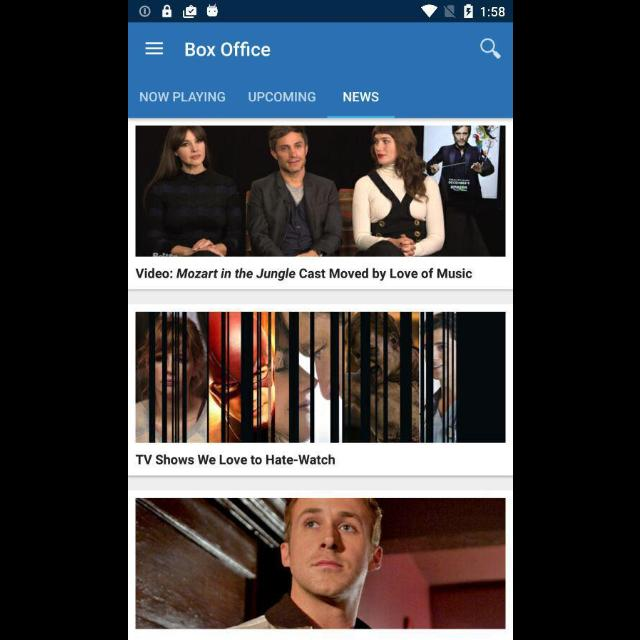icon: (479, 38, 501, 60), (144, 42, 164, 56)
image: (135, 126, 505, 258), (135, 498, 505, 628), (135, 312, 505, 442)
text: (135, 268, 471, 282), (136, 454, 334, 464), (184, 41, 270, 58), (140, 91, 226, 102), (248, 92, 314, 102), (343, 92, 379, 102)
uppertaskbar: (128, 1, 512, 23)
